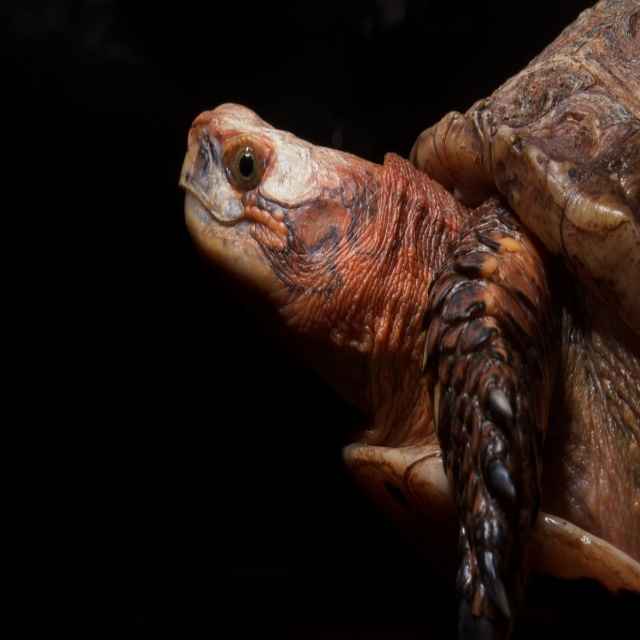Sea turtle: (175, 0, 640, 639)
